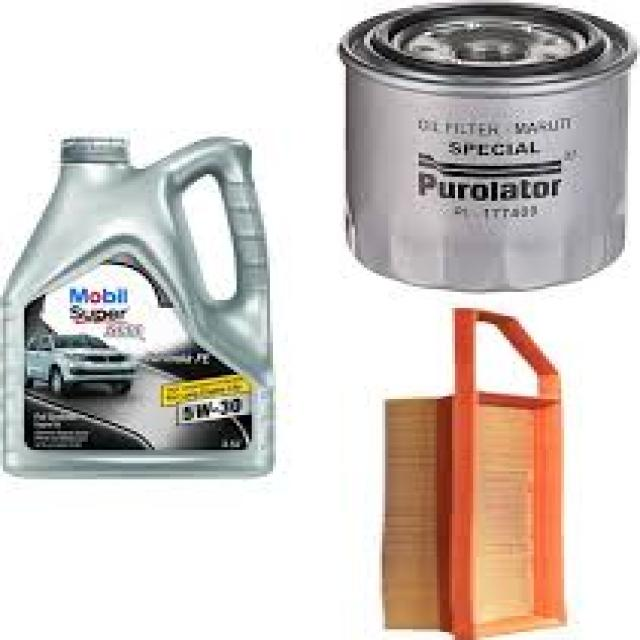air_filter: (379, 297, 579, 640)
motor_oil: (0, 124, 273, 488)
oil_filter: (330, 0, 640, 292)
